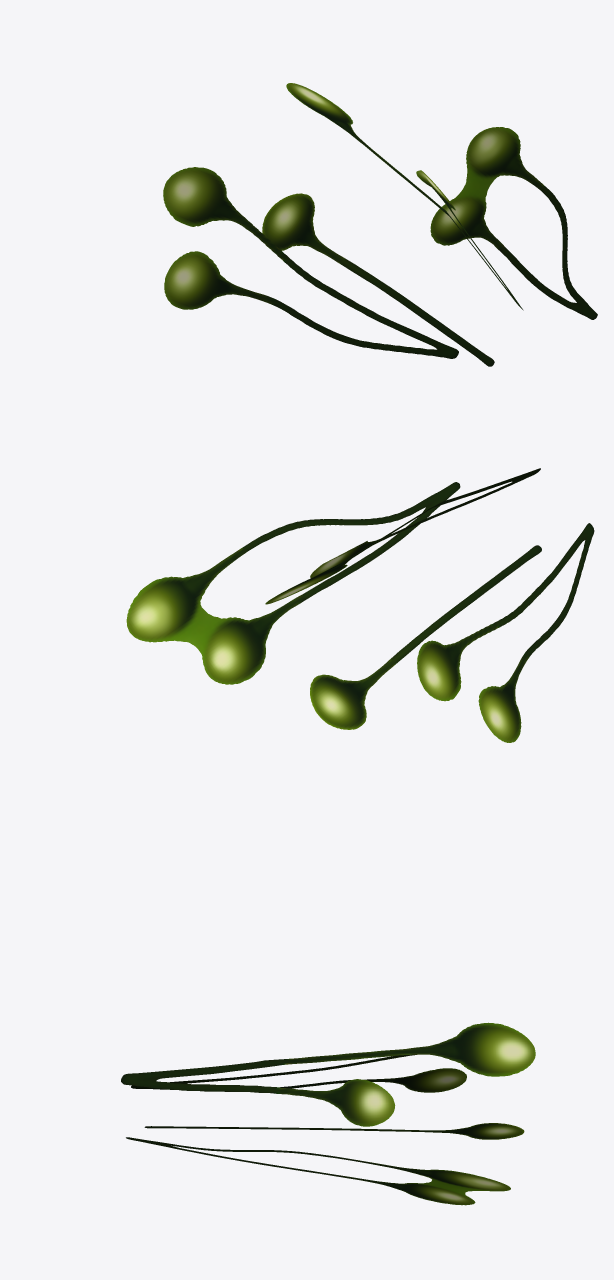
The model's file is MEP_Lumies_01.fbx.
3 renders of one model, top to bottom at view 1: azimuth 30°, elevation 25°; view 2: azimuth 150°, elevation 25°; view 3: azimuth 270°, elevation 25°, orthographic. The views are drawn at different scales.
Visible parts, largest first — view 1: MEP_Lumies_01; view 2: MEP_Lumies_01; view 3: MEP_Lumies_01.
Boxes of the visible parts, box(x1,y1,x2,y2) form: MEP_Lumies_01: box(163, 83, 597, 366); MEP_Lumies_01: box(126, 468, 594, 742); MEP_Lumies_01: box(121, 1022, 535, 1205).
Size of the model in its own units: 1.32 by 0.7543 by 1.46.
